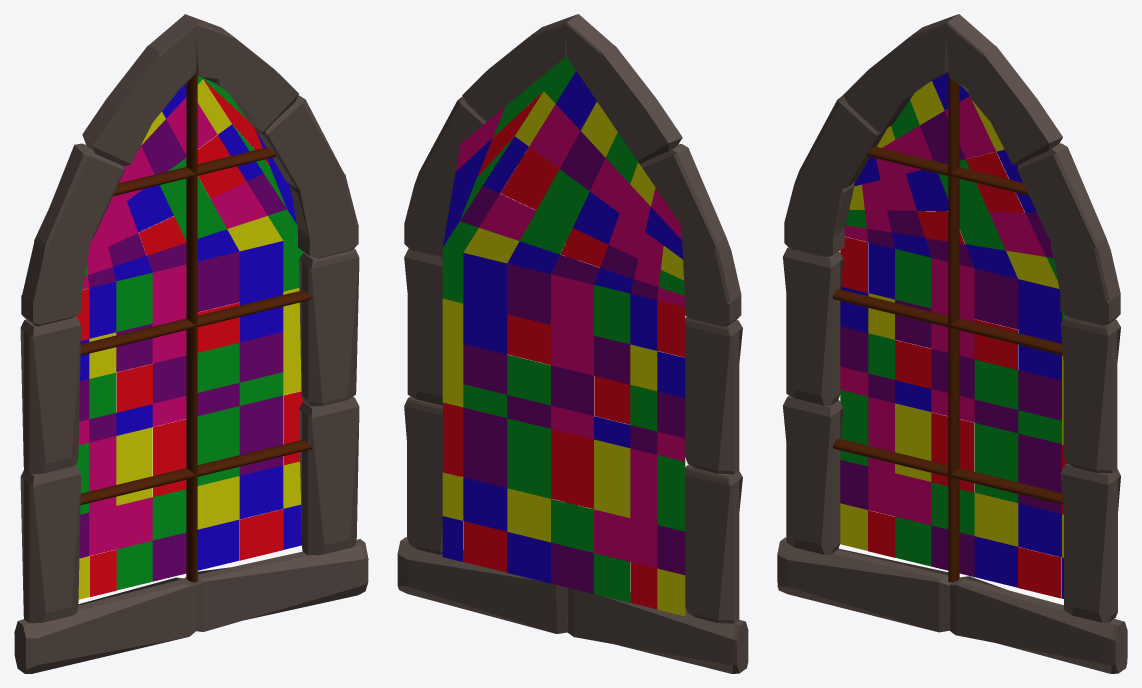
File: stainedGlass.fbx
The picture shows the model from 3 angles, left to right: view 1: azimuth 30°, elevation 25°; view 2: azimuth 150°, elevation 25°; view 3: azimuth 330°, elevation 25°; orthographic projection.
Parts seen in each view (by area): view 1: Plane.006, Plane.005, Plane.004, Plane, Plane.002, Cube.008, Cube.005, Cube.009, Cube.002, Cube.001, Cube.004, Cube (+9 smaller); view 2: Plane.005, Plane.006, Plane.004, Plane, Plane.002, Plane.003, Cube.005, Cube.008, Cube.009, Cube.001, Cube.002, Cube.006 (+5 smaller); view 3: Plane.006, Plane.005, Plane, Plane.004, Plane.002, Cube.004, Cube.008, Cube.009, Cube.005, Cube.003, Cube.001, Cube.002 (+9 smaller).
Boxes of the visible parts, left/top/right/bottom form: Plane.006: left=79, top=119, right=286, bottom=581; Plane.005: left=76, top=76, right=304, bottom=590; Plane.004: left=80, top=84, right=301, bottom=570; Plane: left=78, top=97, right=267, bottom=555; Plane.002: left=76, top=80, right=302, bottom=596; Cube.008: left=14, top=577, right=196, bottom=673; Cube.005: left=21, top=143, right=124, bottom=325; Cube.009: left=185, top=539, right=368, bottom=631; Cube.002: left=20, top=316, right=80, bottom=474; Cube.001: left=20, top=465, right=80, bottom=623; Cube.004: left=255, top=95, right=358, bottom=258; Cube: left=299, top=396, right=359, bottom=555; Plane.005: left=442, top=56, right=685, bottom=602; Plane.006: left=460, top=131, right=685, bottom=593; Plane.004: left=442, top=71, right=685, bottom=583; Plane: left=455, top=104, right=685, bottom=568; Plane.002: left=443, top=91, right=685, bottom=609; Plane.003: left=442, top=91, right=685, bottom=616; Cube.005: left=640, top=144, right=741, bottom=326; Cube.008: left=567, top=588, right=748, bottom=673; Cube.009: left=397, top=537, right=567, bottom=633; Cube.001: left=685, top=464, right=742, bottom=623; Cube.002: left=685, top=316, right=742, bottom=474; Cube.006: left=565, top=14, right=682, bottom=163; Plane.006: left=840, top=111, right=1061, bottom=576; Plane.005: left=840, top=100, right=1065, bottom=566; Plane: left=840, top=96, right=1045, bottom=525; Plane.004: left=840, top=72, right=1063, bottom=598; Plane.002: left=840, top=152, right=1066, bottom=598; Cube.004: left=1017, top=143, right=1120, bottom=325; Cube.008: left=777, top=537, right=951, bottom=632; Cube.009: left=949, top=576, right=1127, bottom=673; Cube.005: left=784, top=95, right=887, bottom=257; Cube.003: left=1060, top=315, right=1120, bottom=473; Cube.001: left=783, top=395, right=843, bottom=554; Cube.002: left=783, top=247, right=843, bottom=405.
Bounding box in the file's own units: 231 × 397 × 18.79.
